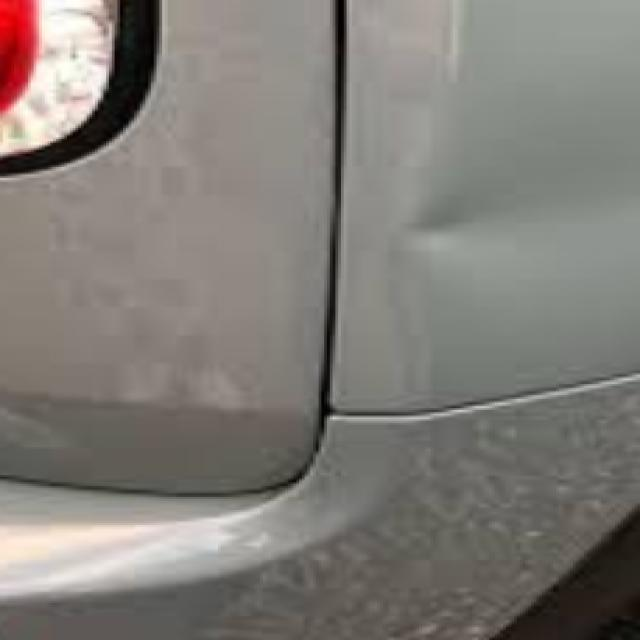dents: (347, 168, 527, 273)
